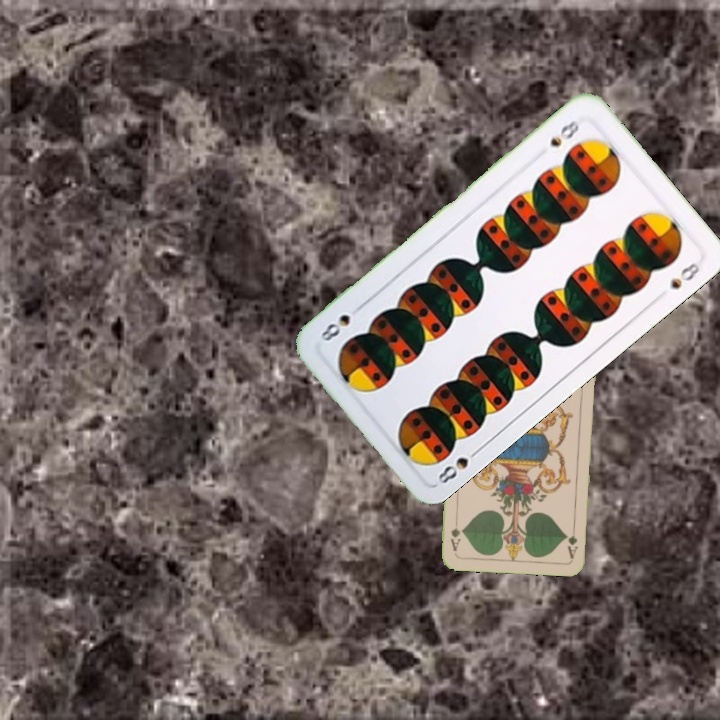GA: (563, 520, 580, 560)
S8: (433, 443, 484, 488), (545, 116, 582, 150)
